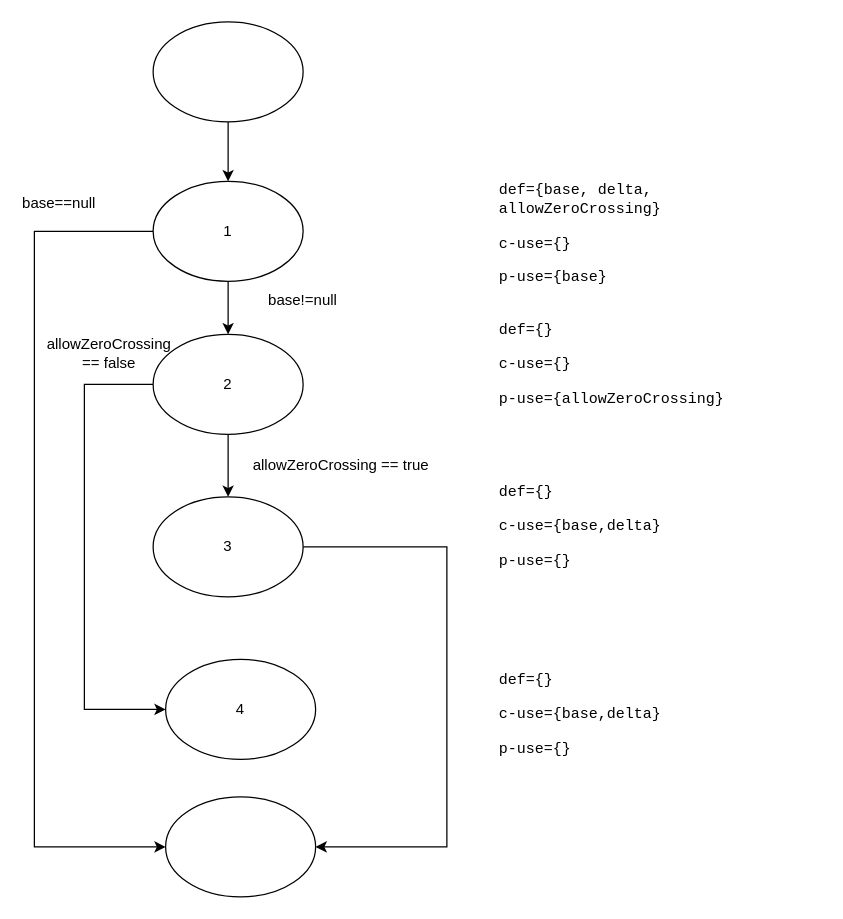
Image size: 843x919. Some labels were removed from this diagram. The shapes that lost their labels are listed below. From the top down, each one's box as (x1, y1, x2, y2) in pixels, then its label:
(152, 21, 303, 122): start
(164, 796, 316, 897): End
